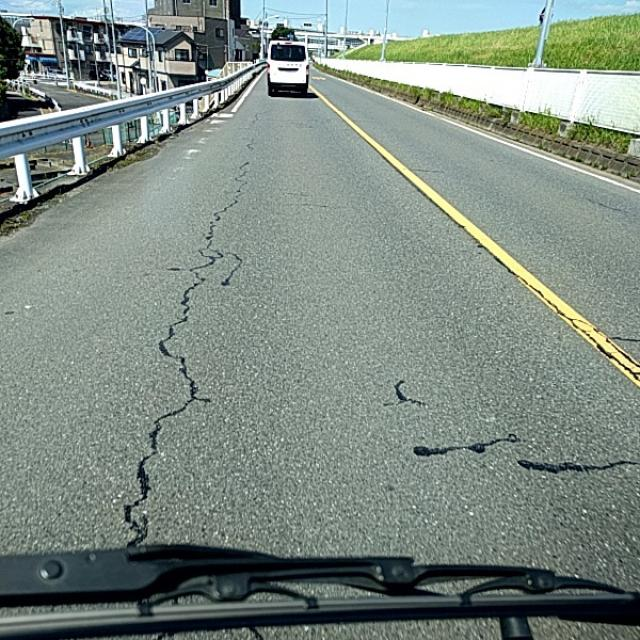pothole: (158, 265, 194, 448)
